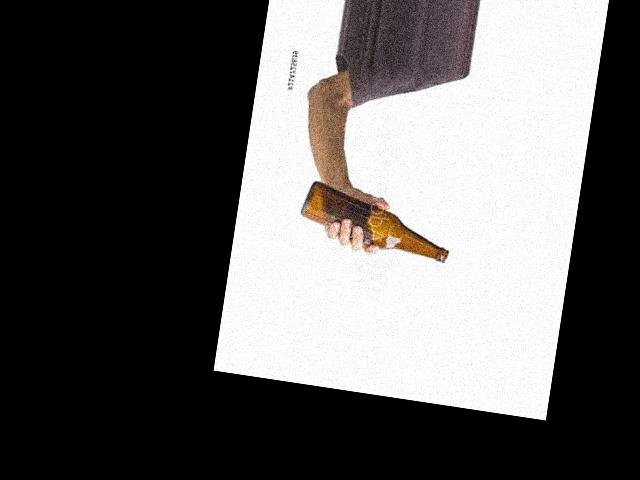beer: (296, 179, 456, 264)
